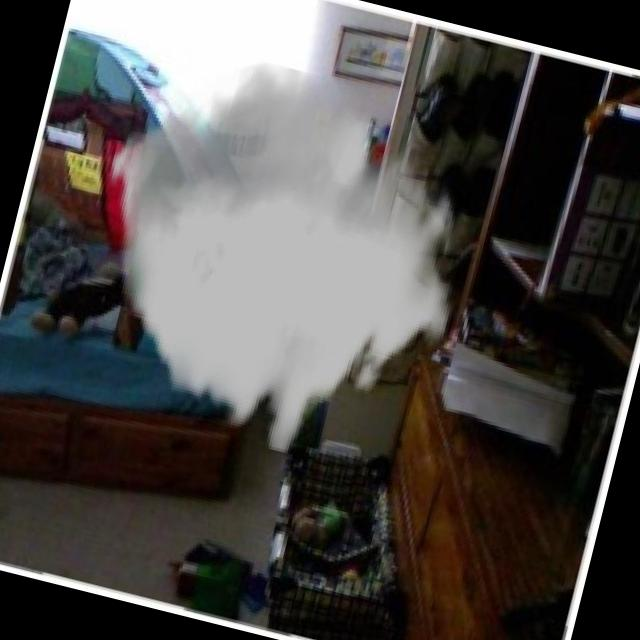Smoke: (51, 31, 500, 483)
